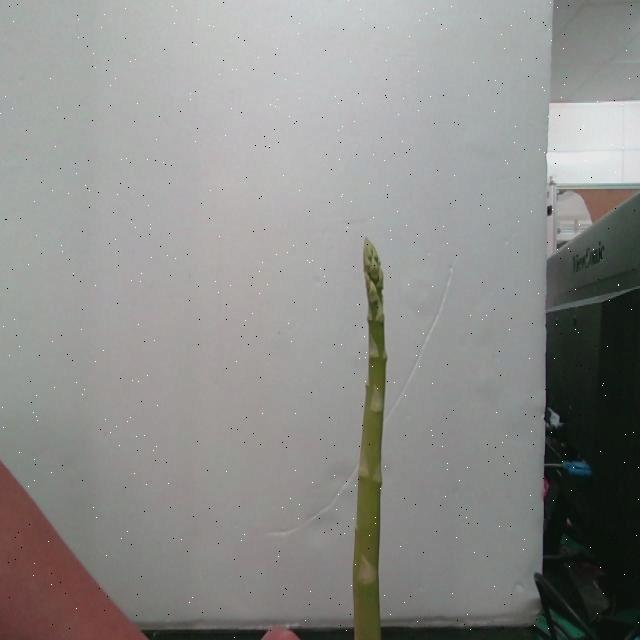aspargus: (352, 240, 390, 640)
